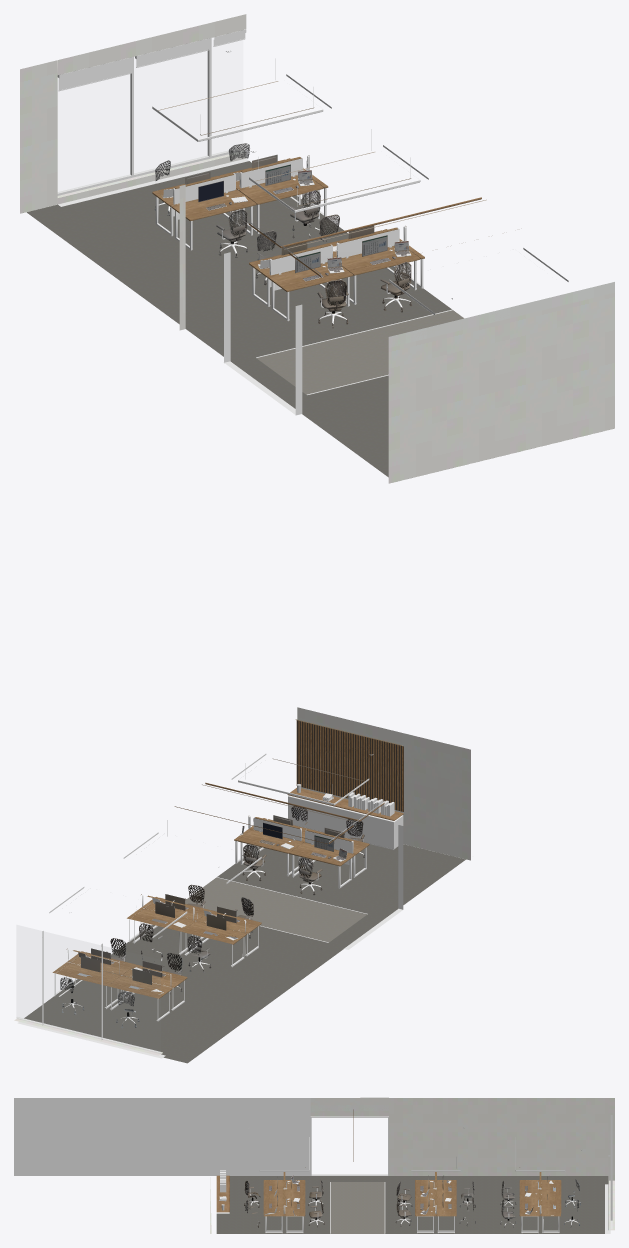
File: z-open_w-lite.light.043583df.glb
The picture shows the model from 3 angles, top to bottom: view 1: azimuth 30°, elevation 25°; view 2: azimuth 150°, elevation 25°; view 3: azimuth 270°, elevation 25°; orthographic projection. The views are drawn at different scales.
Parts seen in each view (by area): view 1: open_w_plaster, open_w_carpet, open_w_satin, open_w_oak, open_w_fx, open_w_emit, open_w_metal_lit; view 2: open_w_carpet, open_w_plaster, open_w_satin, open_w_oak, open_w_proxy_slat, open_w_fx, open_w_metal_lit, open_w_emit; view 3: open_w_satin, open_w_plaster, open_w_carpet, open_w_oak, open_w_fx, open_w_metal_lit.
Boxes of the visible parts, box(x1,y1,x2,y2) form: open_w_plaster: box(20, 14, 614, 483); open_w_carpet: box(27, 161, 463, 477); open_w_satin: box(57, 29, 568, 415); open_w_oak: box(152, 155, 481, 291); open_w_fx: box(154, 143, 411, 327); open_w_emit: box(158, 81, 486, 272); open_w_metal_lit: box(61, 51, 411, 414); open_w_carpet: box(24, 844, 465, 1063); open_w_plaster: box(14, 707, 470, 1055); open_w_satin: box(16, 754, 403, 1058); open_w_oak: box(52, 782, 403, 998); open_w_proxy_slat: box(296, 720, 403, 811); open_w_fx: box(60, 806, 364, 1027); open_w_metal_lit: box(57, 826, 403, 1055); open_w_emit: box(179, 719, 402, 922); open_w_satin: box(14, 1098, 612, 1233); open_w_plaster: box(210, 1097, 614, 1233); open_w_carpet: box(216, 1176, 608, 1233); open_w_oak: box(216, 1109, 561, 1216); open_w_fx: box(244, 1175, 580, 1227); open_w_metal_lit: box(249, 1174, 605, 1233).
Bounding box in the file's own units: 5.4 × 3.35 × 23.
10 materials, 6 textured.
